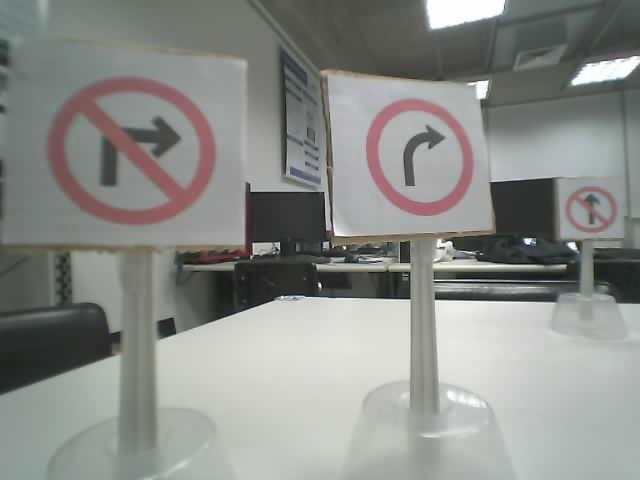R-25b_direita: (364, 97, 474, 215)
R-3_sentido-proibido: (564, 185, 618, 233)
R-4b_proibido-direita: (48, 76, 215, 225)
